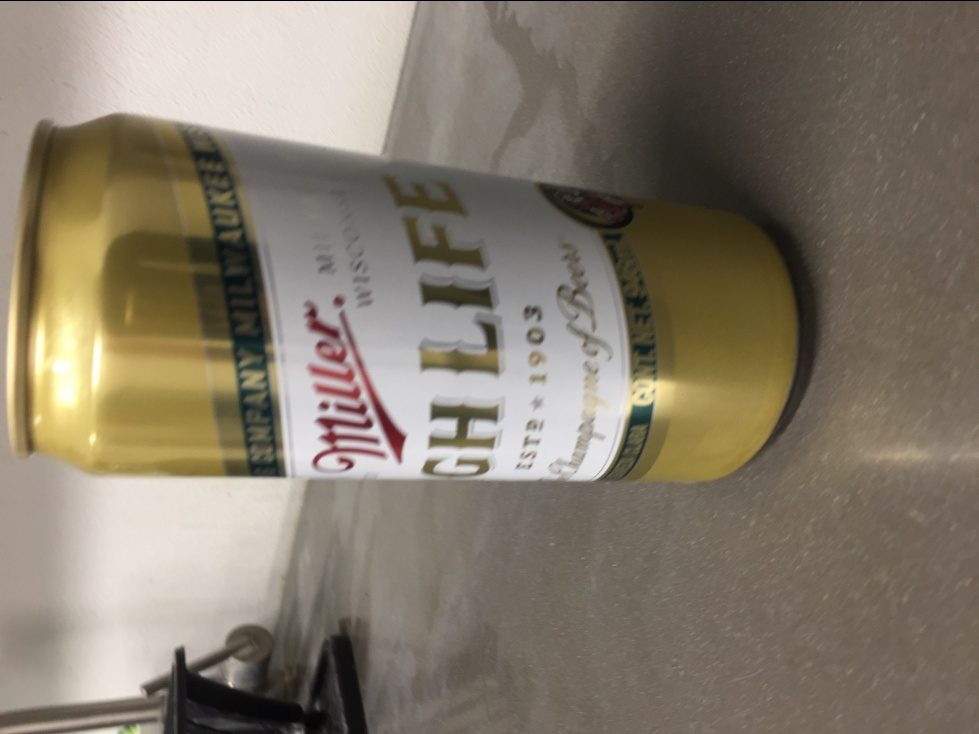miller: (6, 110, 812, 493)
